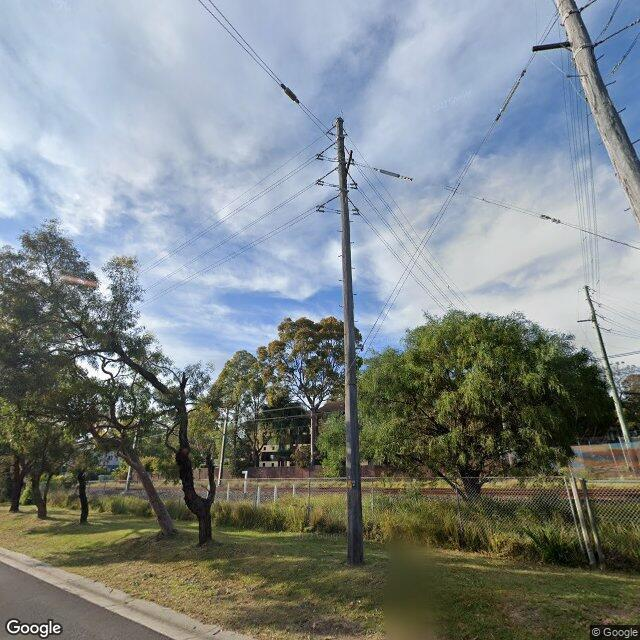HV-transmission: (314, 131, 360, 217), (587, 286, 613, 332)
crossarm: (532, 40, 570, 52), (345, 150, 353, 172), (576, 318, 594, 324)
timber-pole: (554, 0, 640, 226), (335, 118, 364, 565), (584, 286, 632, 448), (217, 406, 229, 486), (126, 428, 139, 492)
